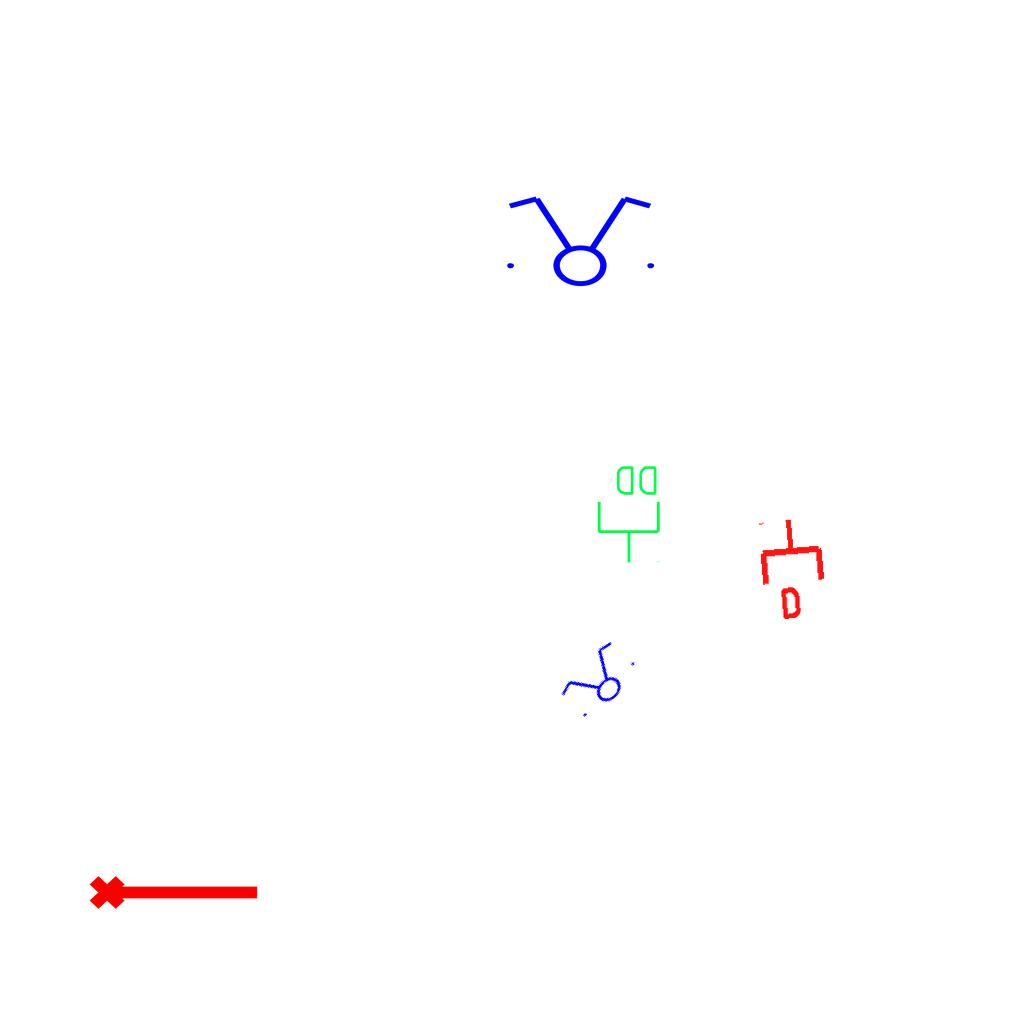ASR_Ansaugoeffnung: (87, 867, 263, 913)
Datenanschluss_einfach: (753, 515, 832, 621)
Datenanschluss_zweifach: (595, 462, 664, 565)
Serienschalter: (495, 192, 663, 288), (552, 633, 646, 729)
